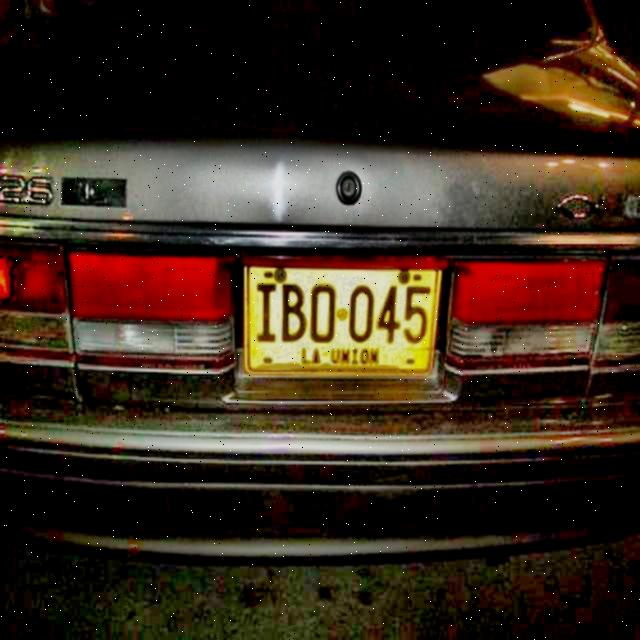0: (349, 283, 376, 345)
4: (375, 283, 401, 344)
5: (403, 284, 432, 345)
B: (280, 282, 307, 346)
I: (254, 282, 278, 345)
O: (309, 282, 338, 346)
